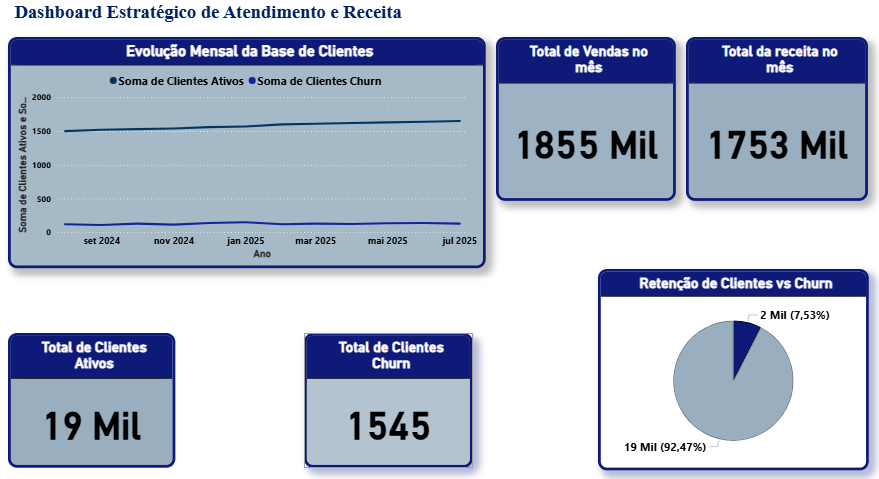

Layout of this report page (visuals, bound fields, positions):
{"tool":"powerbi","page":{"name":"Página 1","canvas":[1280,720],"ordinal":0},"visuals":[{"type":"card","title":"Total de Vendas no mês","fields":{"Values":["Sum(Table_1 (2).Vendas (R$))"]},"box":[724.6,69.6,259.4,236.2],"z":0},{"type":"card","title":"Total da receita no mês","fields":{"Values":["Sum(Table_1 (2).Receita (R$))"]},"box":[998.6,69.6,262.3,236.2],"z":1000},{"type":"card","title":"Total de Clientes Churn","fields":{"Values":["Sum(Table_1 (2).Clientes Churn)"]},"box":[447.8,495.7,243.5,194.2],"z":2000},{"type":"pieChart","title":"Retenção de Clientes vs Churn","fields":{"Y":["Sum(Table_1 (2).Clientes Churn)","Sum(Table_1 (2).Clientes Ativos)"]},"box":[871,402.9,389.9,289.9],"z":3000},{"type":"lineChart","title":"Evolução Mensal da Base de Clientes","fields":{"Y":["Sum(Table_1 (2).Clientes Ativos)","Sum(Table_1 (2).Clientes Churn)"],"Category":["Table_1 (2).Mês/Ano.Variation.Hierarquia de datas.Ano","Table_1 (2).Mês/Ano.Variation.Hierarquia de datas.Mês"]},"box":[21.7,69.6,688.4,333.3],"z":4000},{"type":"card","title":"Total de Clientes Ativos","fields":{"Values":["Sum(Table_1 (2).Clientes Ativos)"]},"box":[21.7,495.7,240.6,194.2],"z":5000},{"type":"textbox","box":[26.1,13,578.3,42],"z":5001}]}

Visuals, with their boxes on the page's 1280x720 design canvas (x1, y1, x2, y2). These are canvas units, not pixel positions in the 879x479 screenshot, which may show the page scaled, cropped or inside an application window:
"Total de Vendas no mês" card: BBox(725, 70, 984, 306)
"Total da receita no mês" card: BBox(999, 70, 1261, 306)
"Total de Clientes Churn" card: BBox(448, 496, 691, 690)
"Retenção de Clientes vs Churn" pieChart: BBox(871, 403, 1261, 693)
"Evolução Mensal da Base de Clientes" lineChart: BBox(22, 70, 710, 403)
"Total de Clientes Ativos" card: BBox(22, 496, 262, 690)
textbox: BBox(26, 13, 604, 55)
